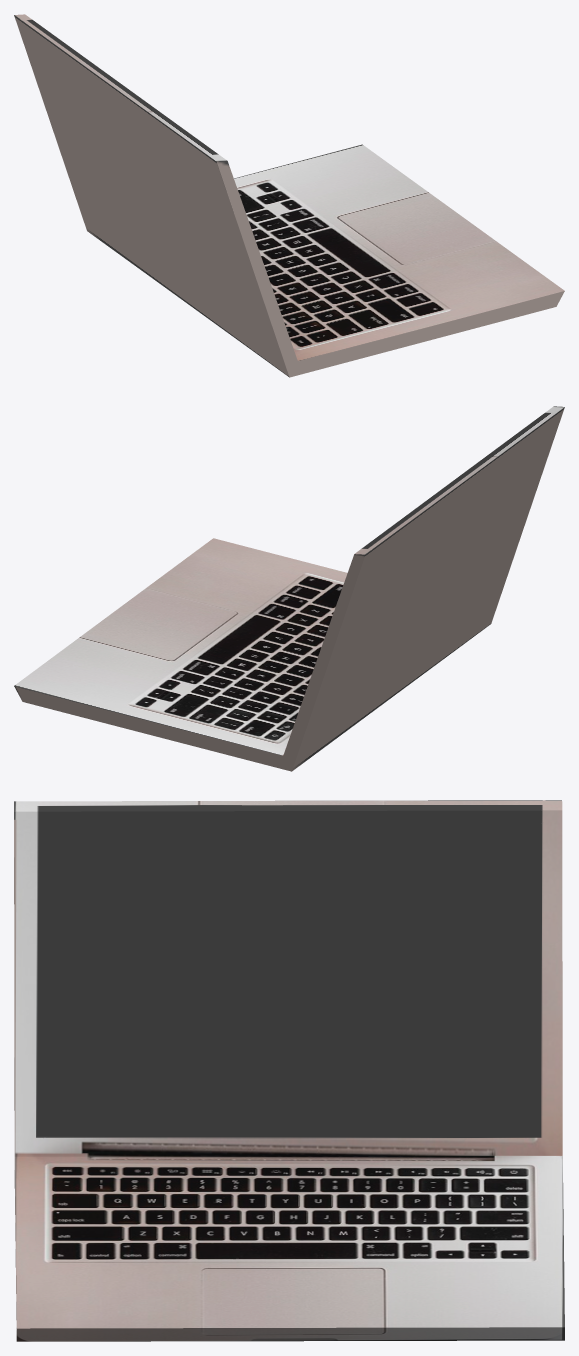
Rendered from Laptop.glb.
The picture shows the model from 3 angles, top to bottom: view 1: azimuth 30°, elevation 25°; view 2: azimuth 150°, elevation 25°; view 3: azimuth 270°, elevation 25°; orthographic projection. The views are drawn at different scales.
Visible parts, largest first — view 1: Cube.011; view 2: Cube.011; view 3: Cube.011.
Boxes of the visible parts, box(x1,y1,x2,y2) form: Cube.011: box(14, 14, 564, 377); Cube.011: box(14, 406, 564, 771); Cube.011: box(14, 800, 564, 1341).
Bounding box in the file's own units: 1.14 × 0.7242 × 1.13.
Materials: 1 (1 with a texture image).
